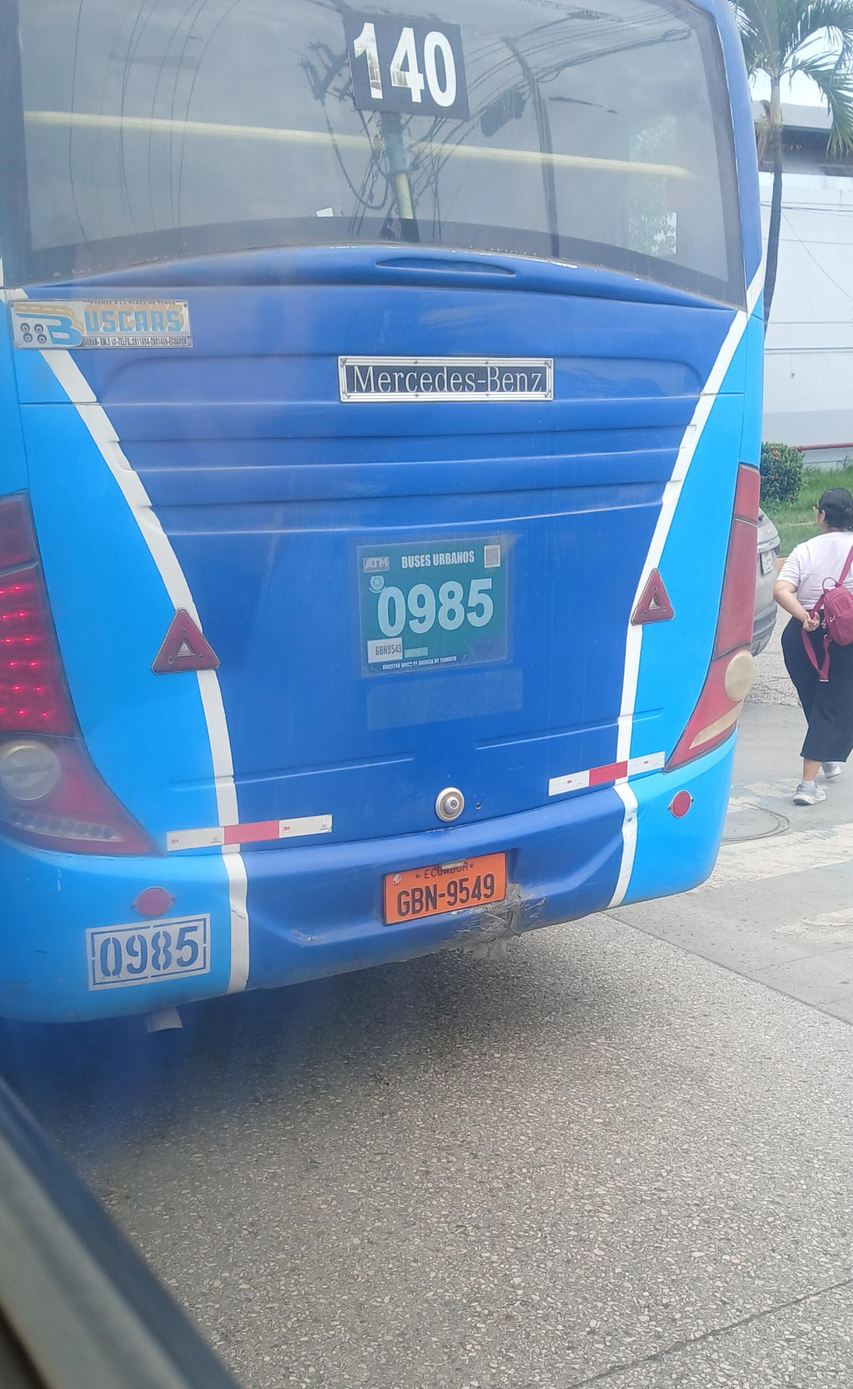license_plate: (382, 850, 507, 925)
